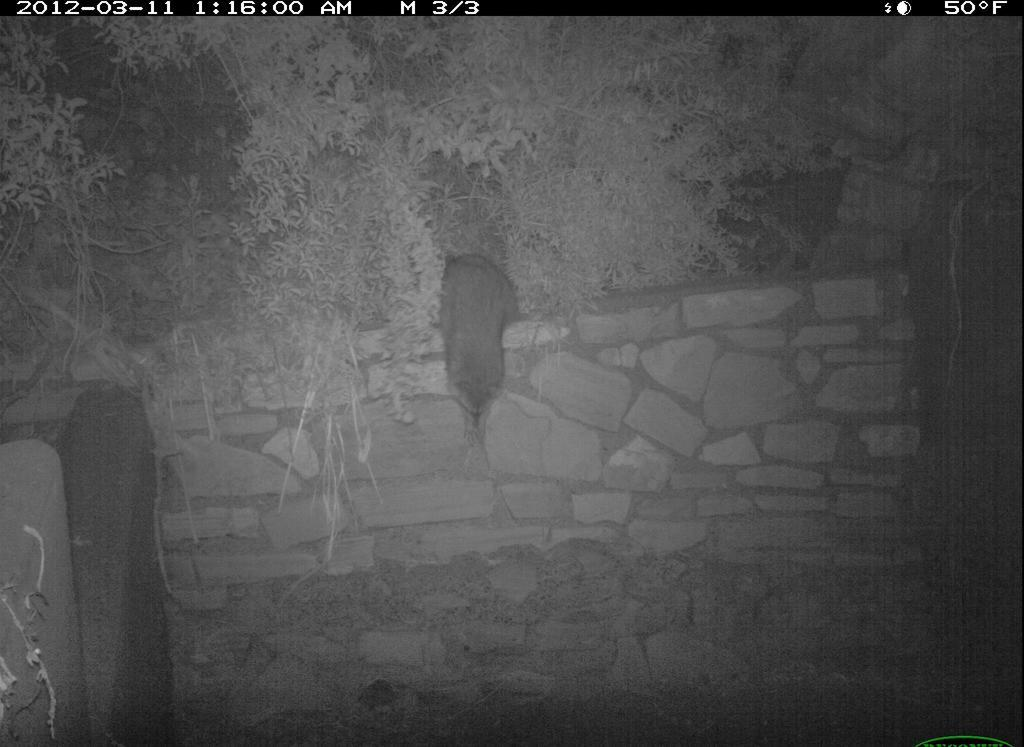raccoon: (431, 240, 539, 447)
